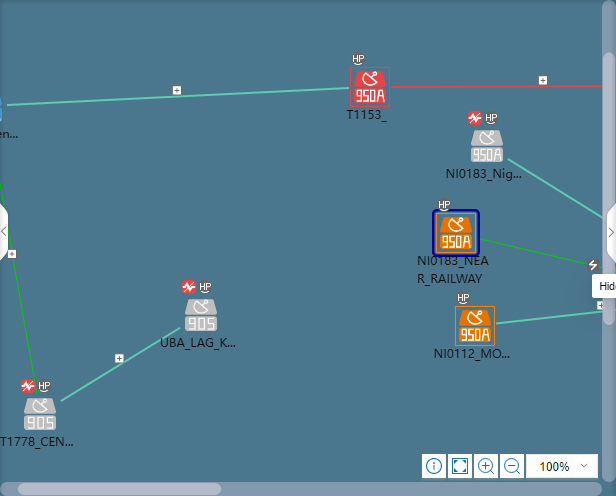Link_Blue: (59, 326, 182, 403), (5, 87, 349, 109), (507, 156, 602, 220), (496, 310, 601, 326)
Link_Green: (481, 236, 602, 269)
Link_Red: (391, 84, 602, 89)
RTN_Gray: (185, 299, 216, 331), (471, 130, 502, 162), (24, 398, 55, 430)
RTN_Orange: (439, 217, 471, 249), (459, 310, 491, 342)
RTN_Red: (352, 69, 387, 103)
